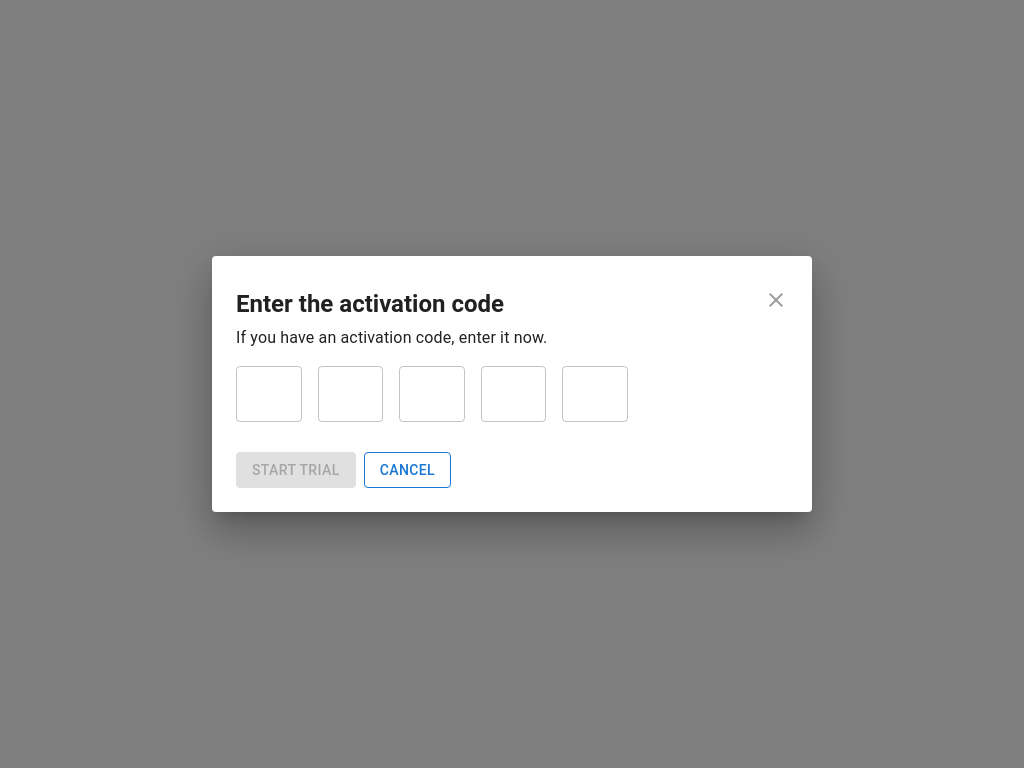
Test: AccessCodeInputModal › enables Start trial button when all fields are filled
In the 1st field: {"x": 269, "y": 394} [236,366,302,422], type "A"
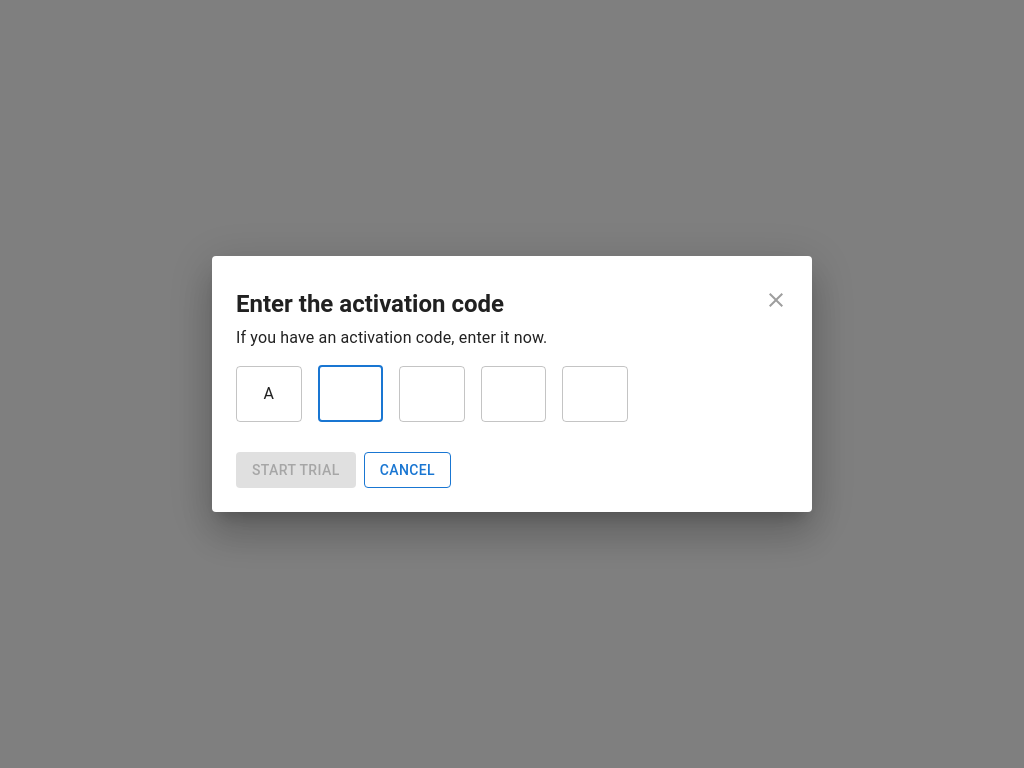
In the 2nd field: {"x": 350, "y": 394} [318,366,383,422], type "A"
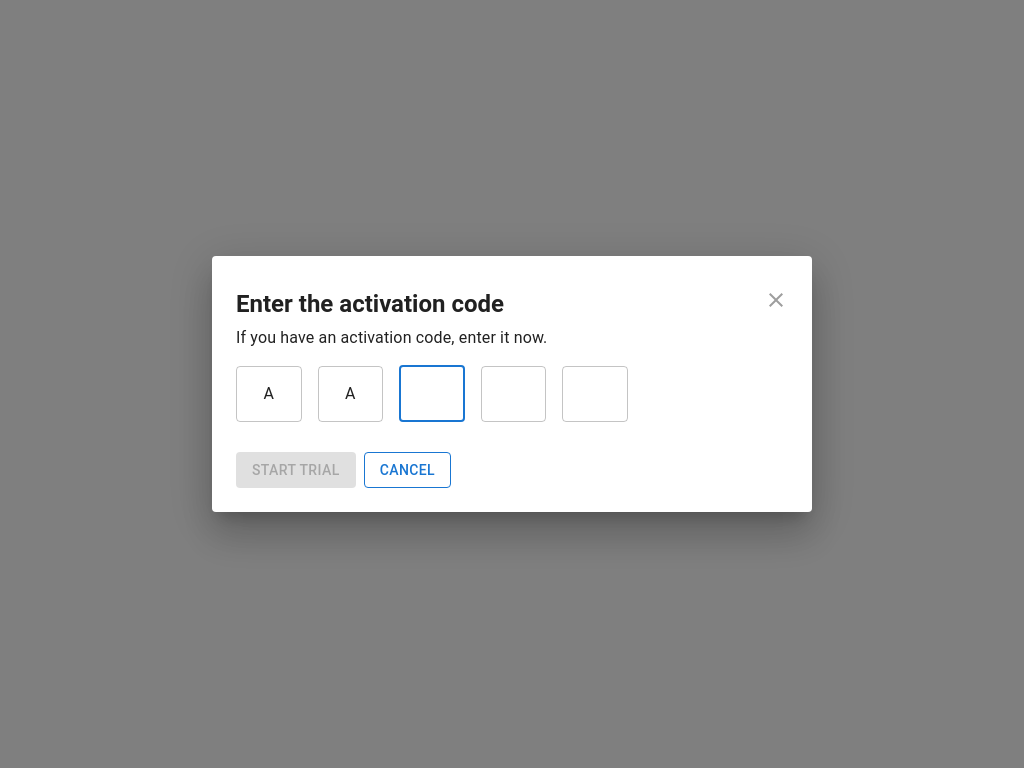
In the 3rd field: {"x": 432, "y": 394} [399,366,465,422], type "A"
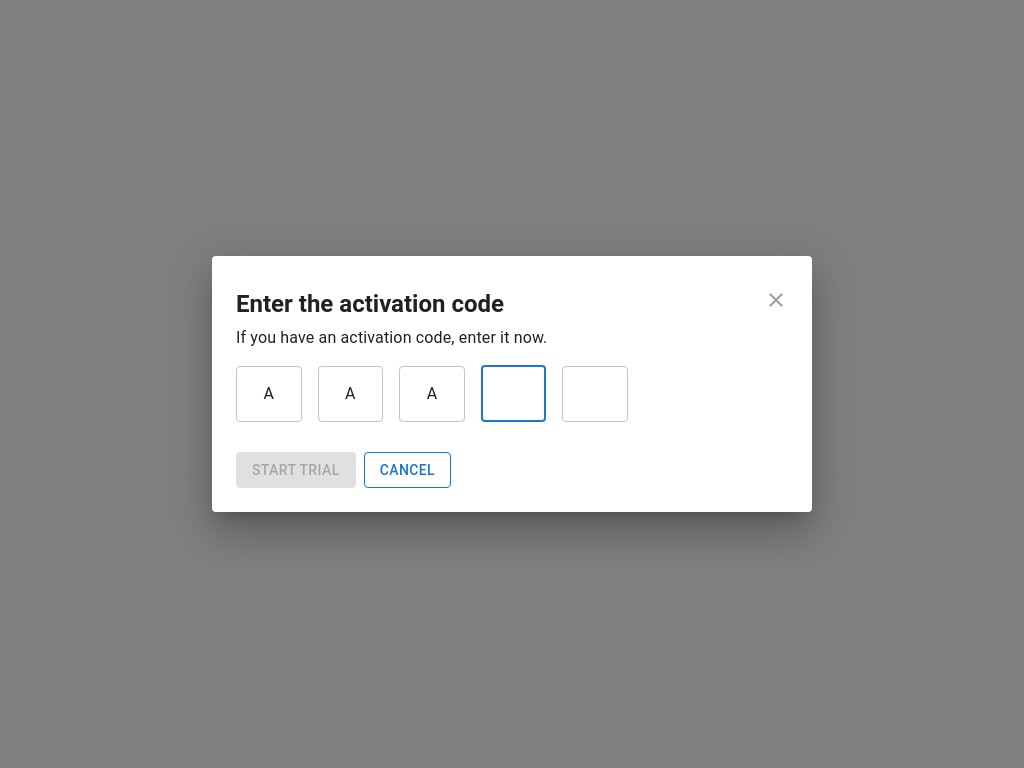
In the 4th field: {"x": 514, "y": 394} [481,366,546,422], type "A"
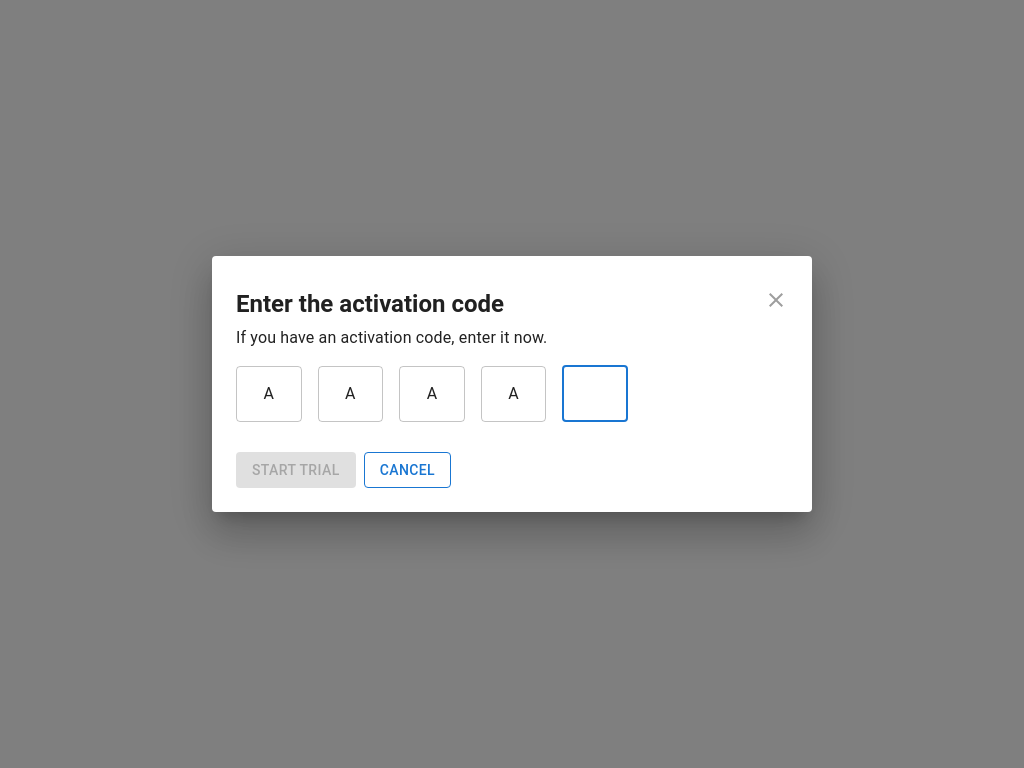
In the 5th field: {"x": 595, "y": 394} [562,366,628,422], type "A"
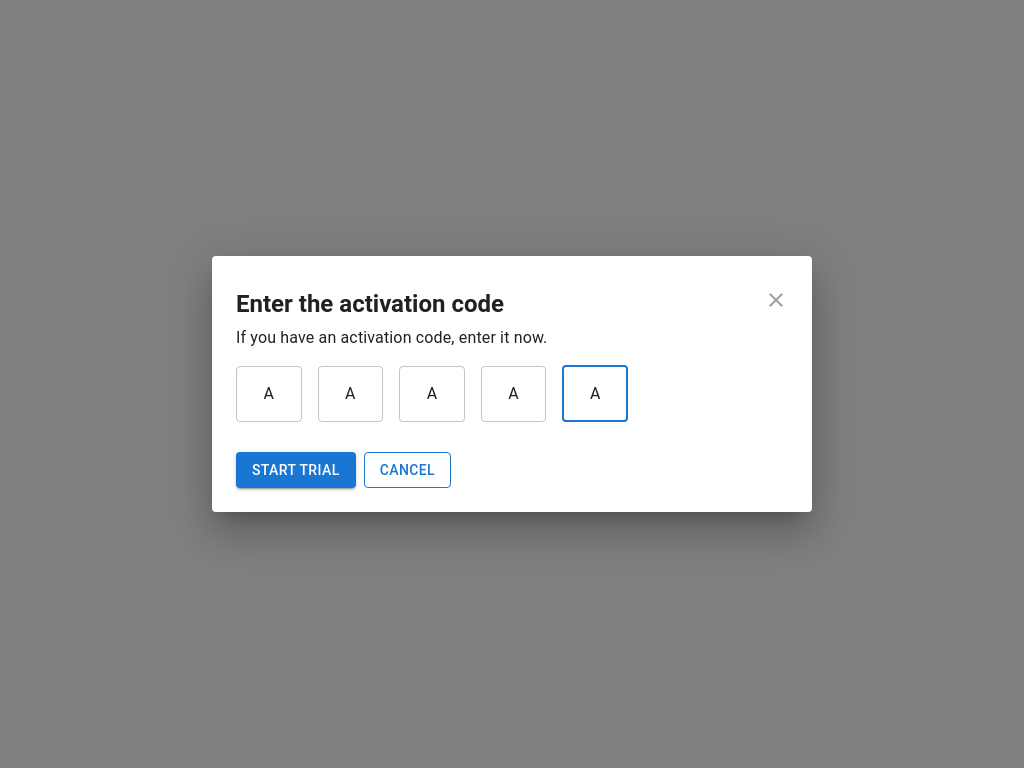
Expected: the button "Start trial" is enabled, [236,452,356,488]
